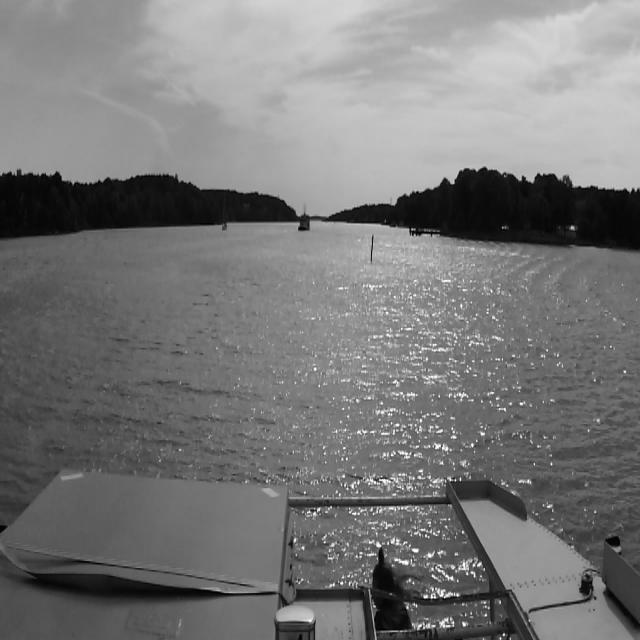buoy: (369, 237, 373, 260)
ship: (299, 211, 310, 232), (222, 204, 226, 228)
